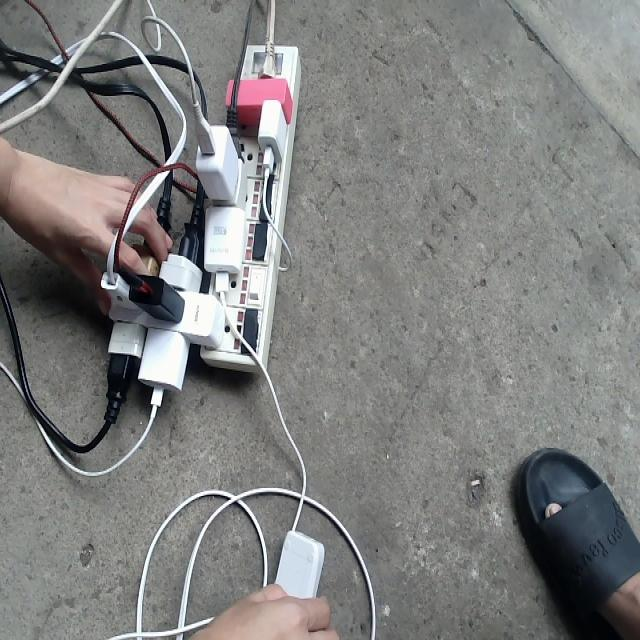-: (97, 37, 300, 388)
